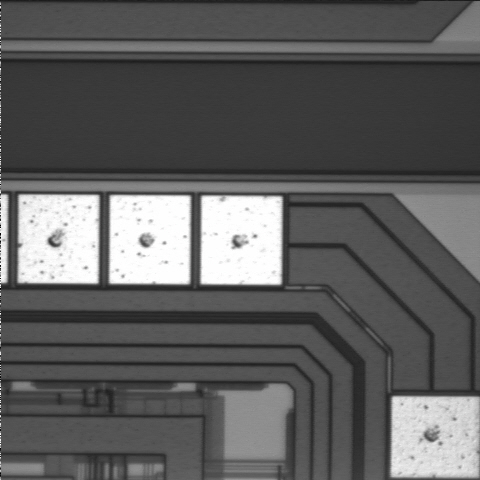pad: (109, 195, 191, 284), (18, 195, 99, 284), (201, 196, 282, 285)
